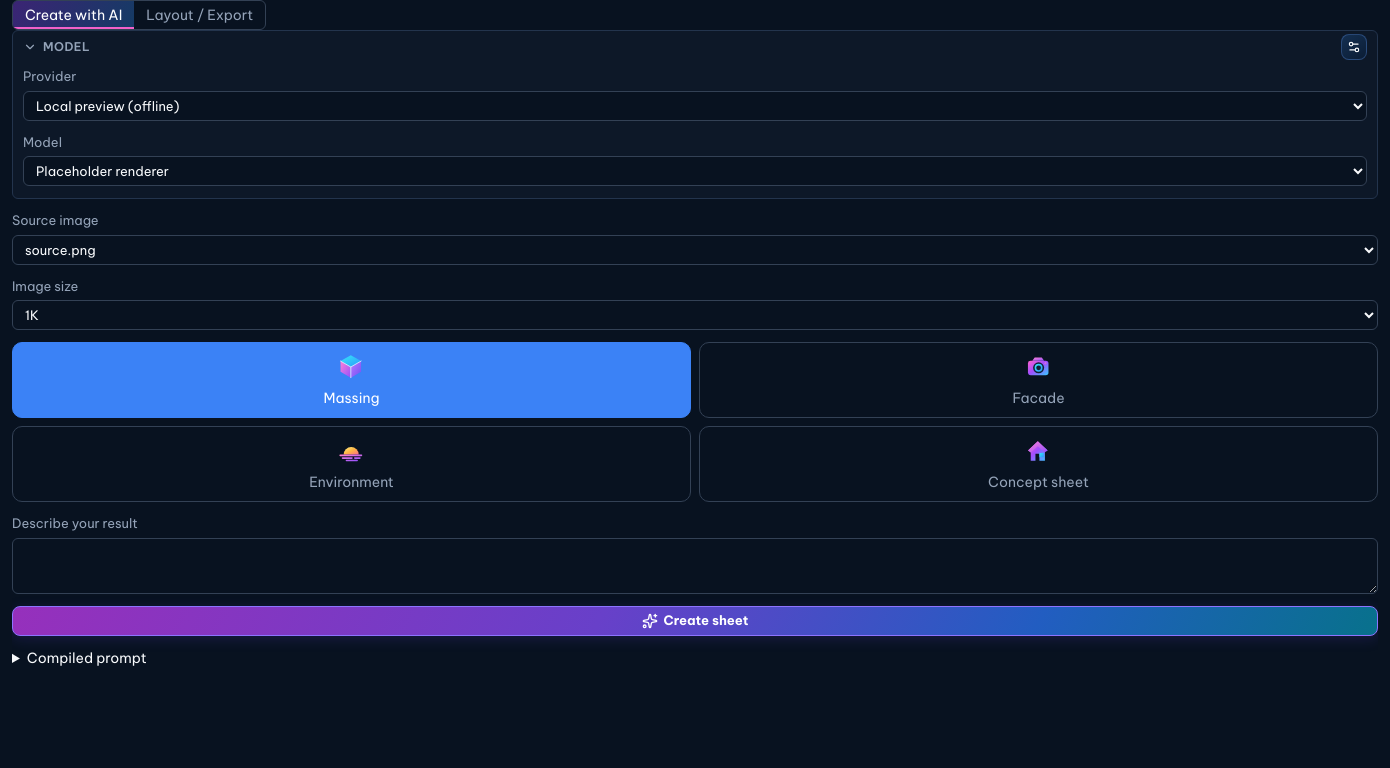
creates a diagram directly from one image using the visible model and selected icon
Expected: the dropdown labelled "Model" is shown, [23,156,1367,186]
Click the button "Facade": (1038, 380) [699,342,1378,418]
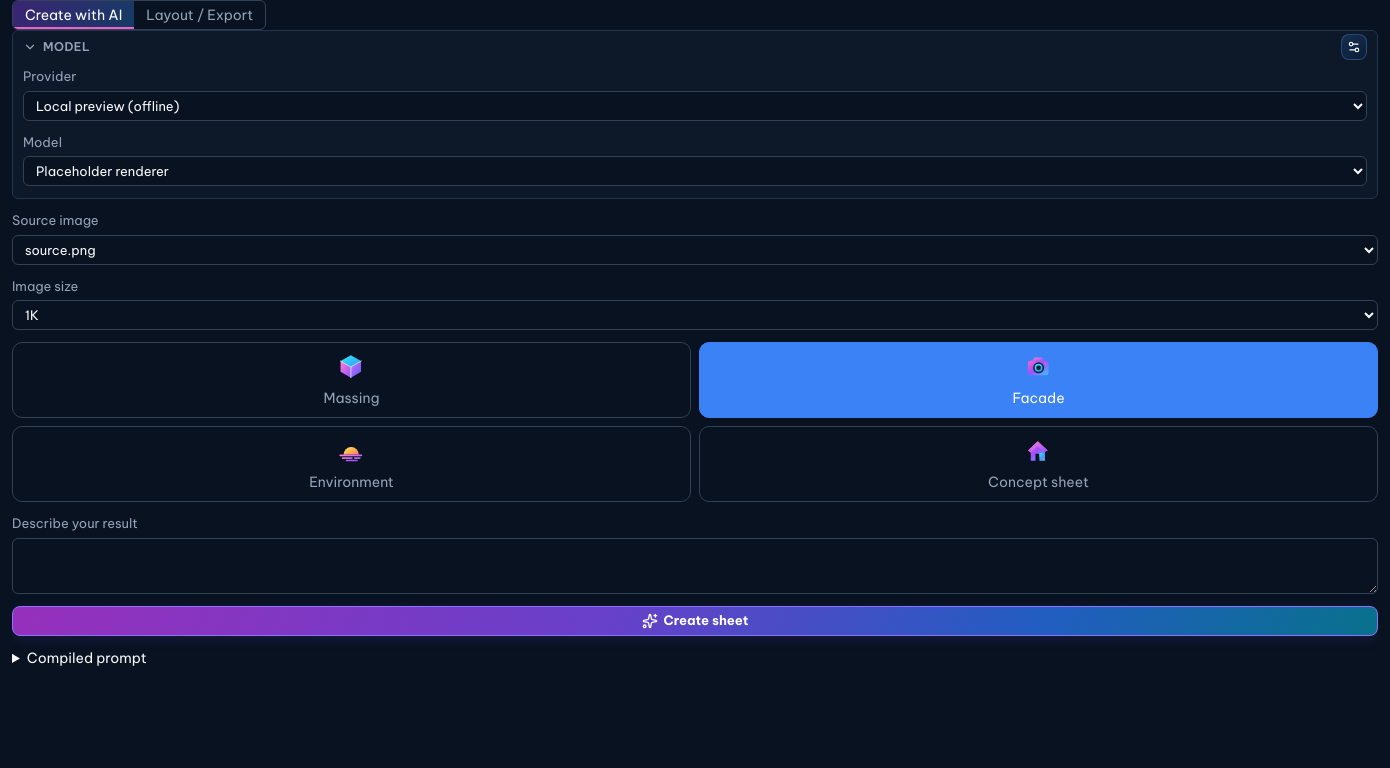
In the text box labelled "Describe your result": (695, 566) [12,538,1378,594], type "blue annotations"
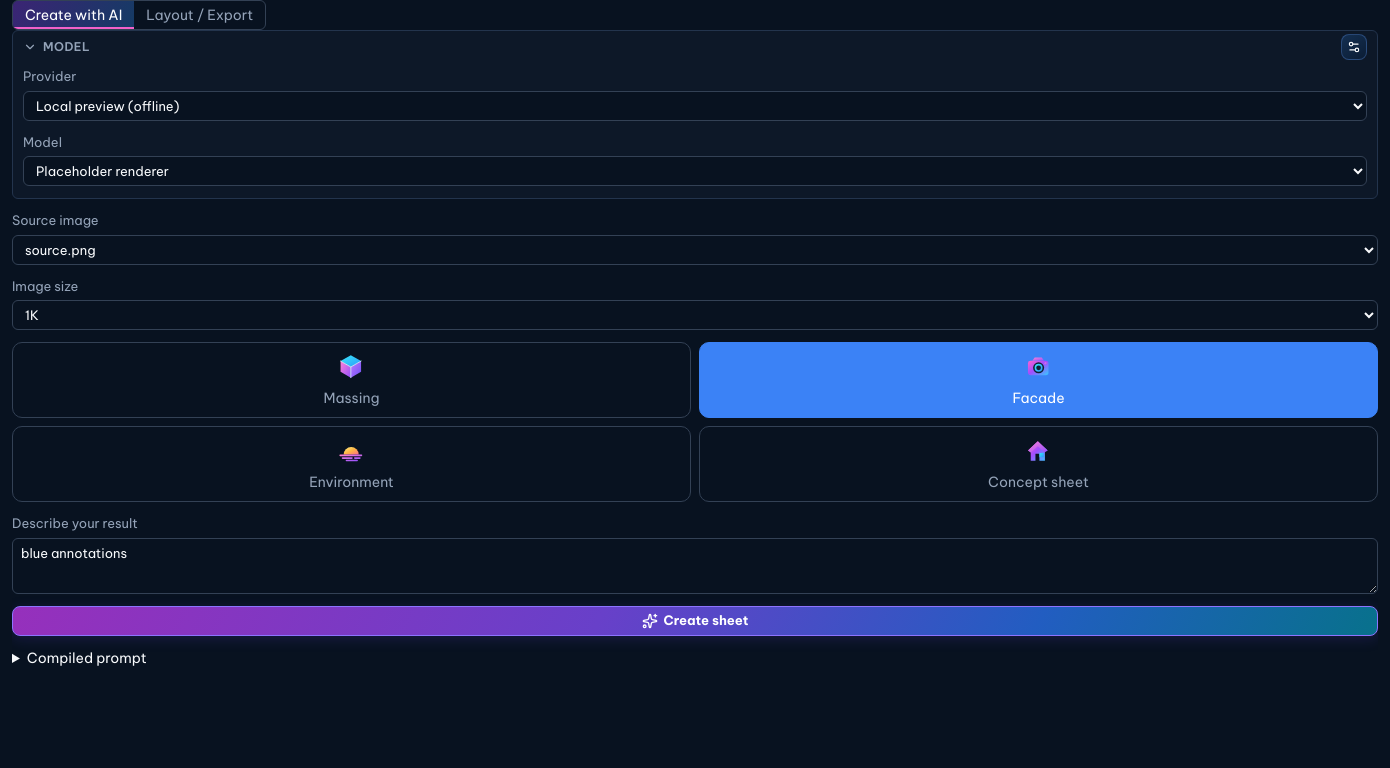
Click the button with test id "diagram-ai-create": (695, 620) [12,606,1378,636]
(page scrolled)
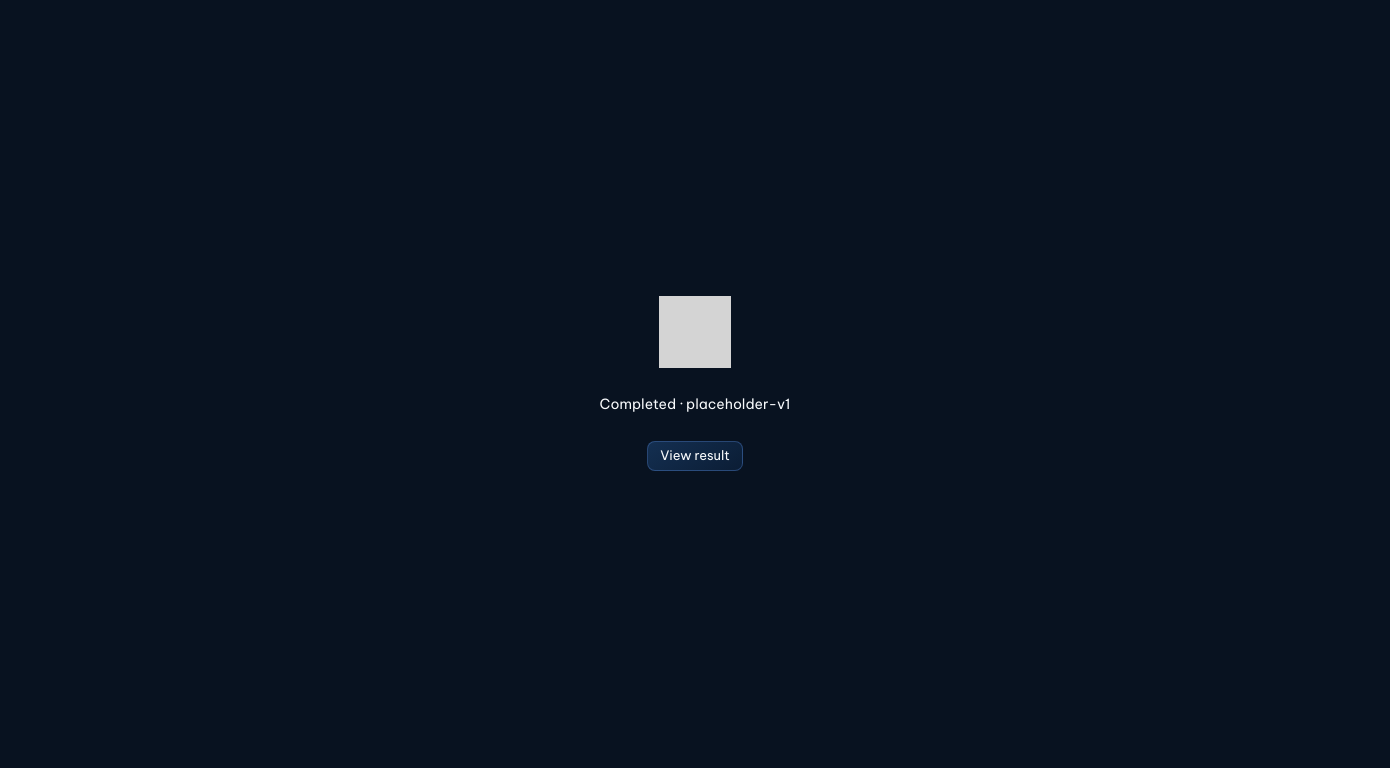
Expected: the button "View result" is shown, [647,441,743,471]
